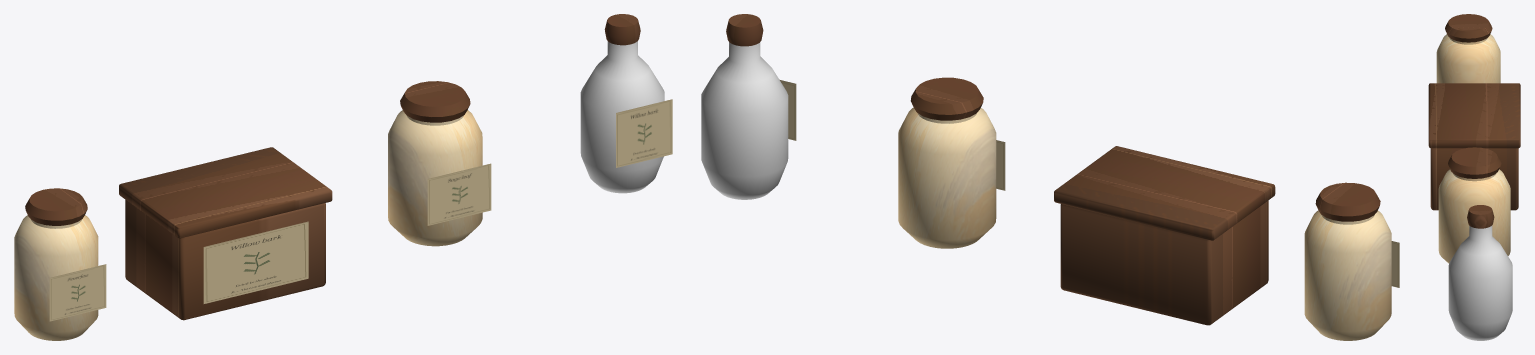
Rendered from CM_HR02_StockCourse4.fbx.
The picture shows the model from 3 angles, left to right: view 1: azimuth 30°, elevation 25°; view 2: azimuth 150°, elevation 25°; view 3: azimuth 270°, elevation 25°; orthographic projection. The views are drawn at different scales.
Parts seen in each view (by area): view 1: CM_HR02_StockCourse4; view 2: CM_HR02_StockCourse4; view 3: CM_HR02_StockCourse4.
Part boxes in pixels (bbox=[...]): CM_HR02_StockCourse4: bbox=[14, 14, 672, 340]; CM_HR02_StockCourse4: bbox=[701, 14, 1399, 340]; CM_HR02_StockCourse4: bbox=[1428, 14, 1520, 340].
Size of the model in its own units: 1.42 by 0.34 by 0.231.
